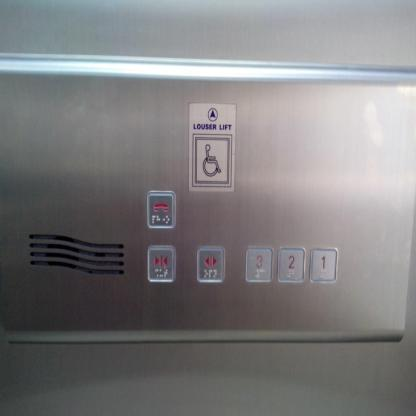1: (309, 248, 338, 282)
2: (277, 246, 305, 283)
3: (245, 246, 274, 282)
CH: (191, 133, 233, 188)
call: (146, 190, 176, 229)
close: (146, 245, 176, 282)
open: (196, 246, 225, 283)
